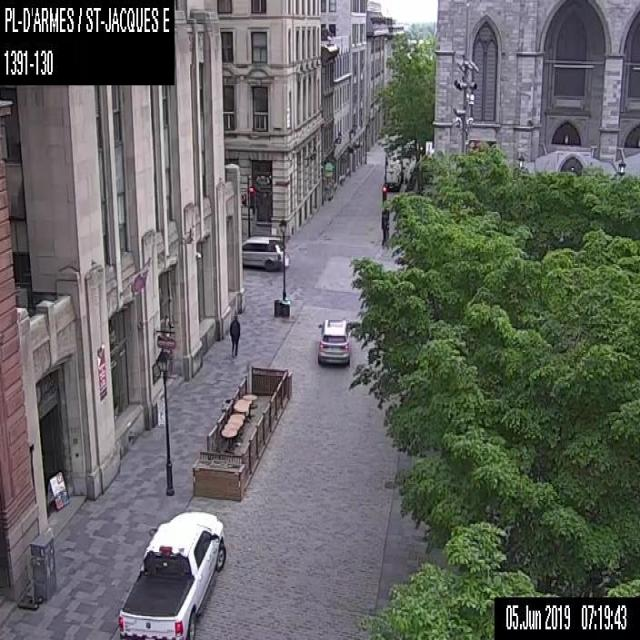pedestrian: (228, 313, 239, 356)
vehicle: (116, 509, 227, 639), (241, 233, 289, 271), (316, 316, 349, 363), (381, 160, 402, 189)
